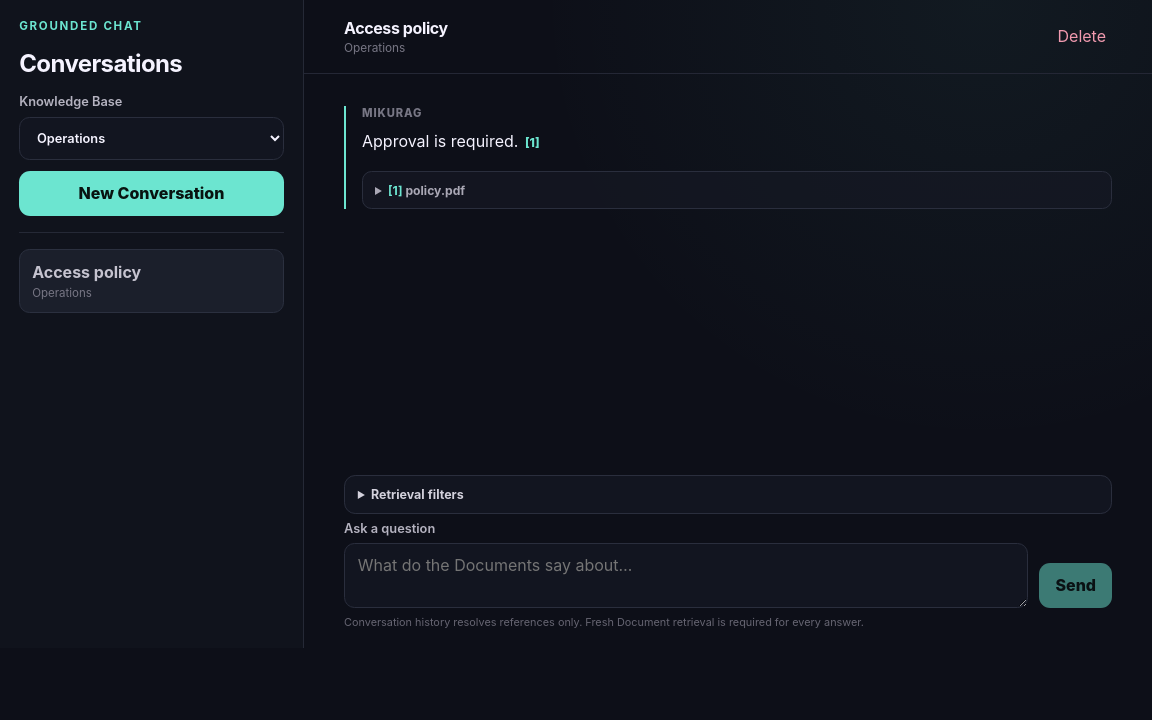
Test: shows validated Citations with expandable evidence and source access
Check: the text "Approval is required." is shown, box top-left (362, 131), bottom-right (523, 151)
Step 1. Click the heading "[1] policy.pdf" → (427, 190), box top-left (388, 182), bottom-right (465, 198)
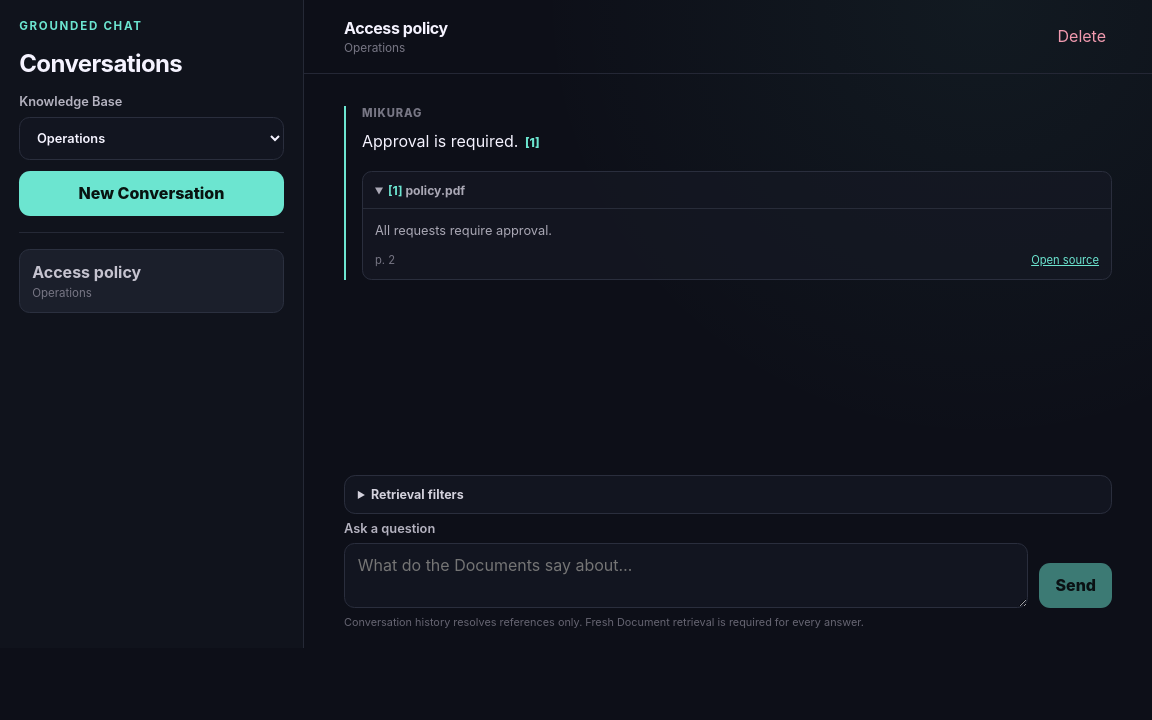
Check: the text "All requests require approval." is shown, box top-left (363, 208), bottom-right (1111, 253)
Check: the text "p. 2" is shown, box top-left (375, 253), bottom-right (395, 267)
